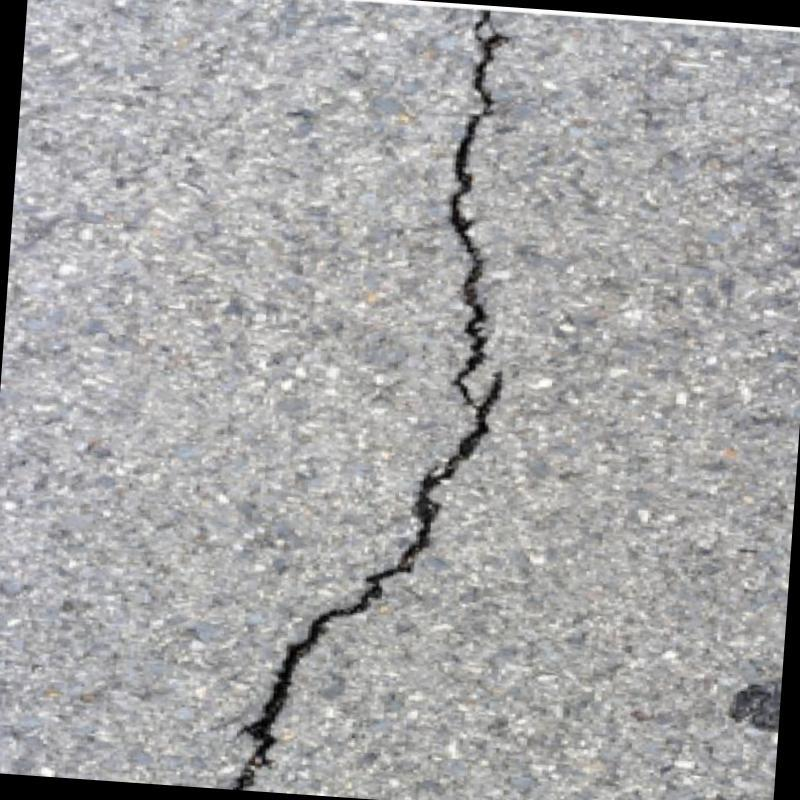crack: (233, 11, 505, 789)
